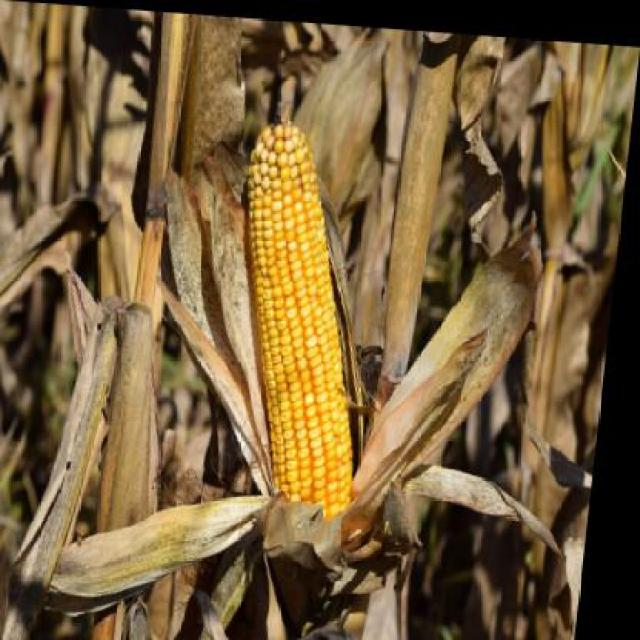Corn: (211, 89, 432, 577)
